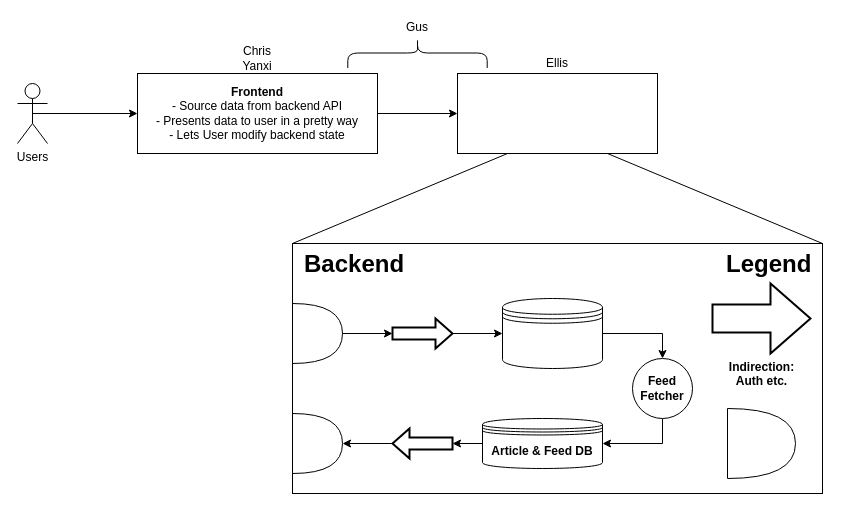
Some shapes in this 841 by 511 pixel diagram are drawn without their labels. The centre of each missing label's shape, as x and y in pixels:
Backend - Polls RSS feeds - Stores articles in DB - Returns articles to frontend: the point at 557,113
Externally Visible: the point at 761,443
User DB - User's Feeds: the point at 552,333
